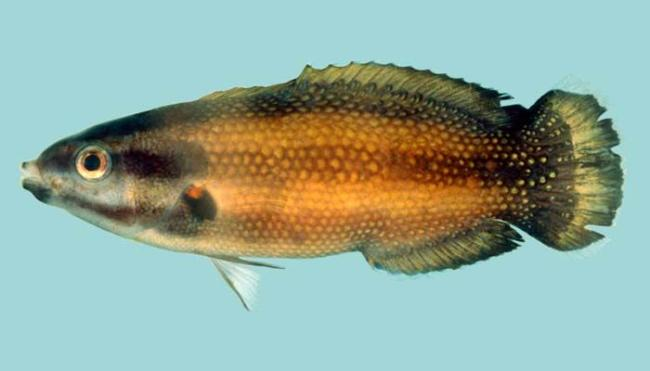fish: (19, 58, 623, 314)
